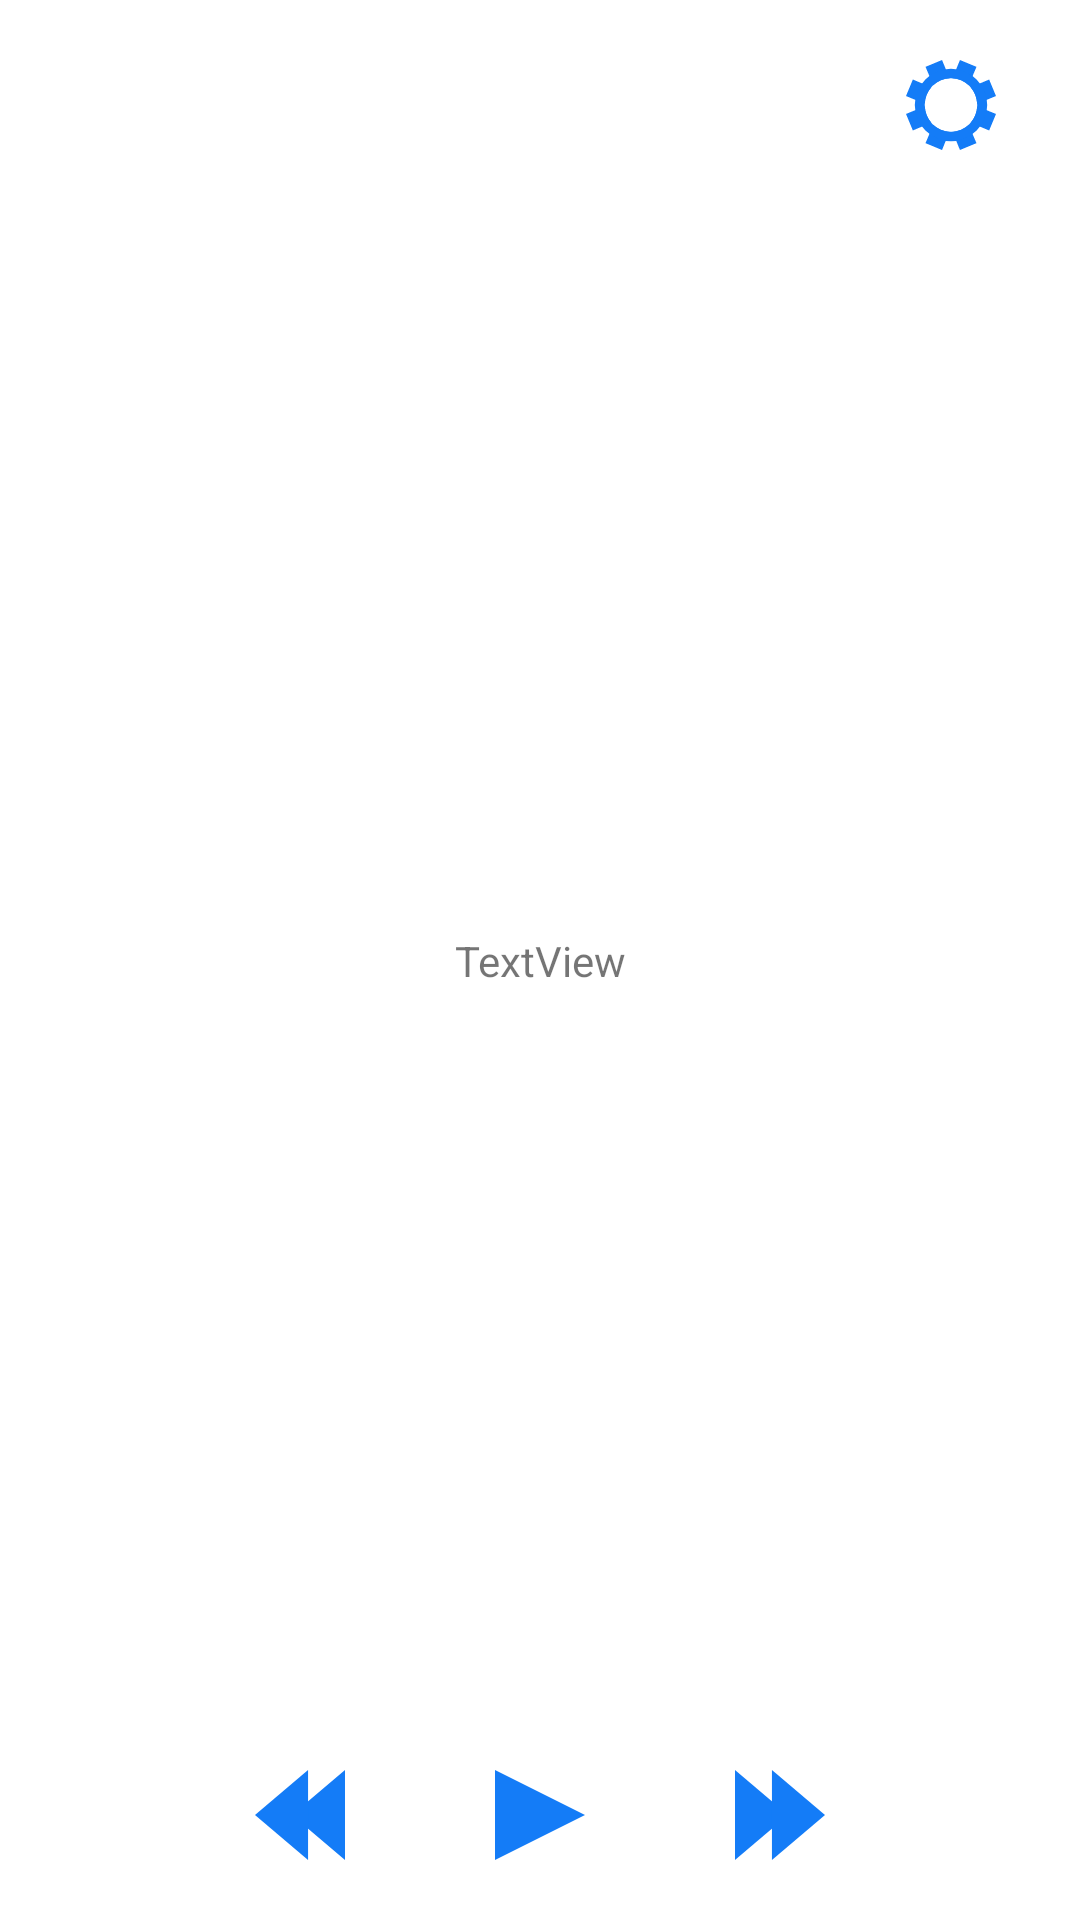

Named icons in this screenshot (1080×1920) and their bounding boxes, [x1,y1,x2,y2]:
next: [735,1770,825,1860]
play: [495,1770,585,1860]
previous: [255,1770,345,1860]
settings: [906,60,996,150]
